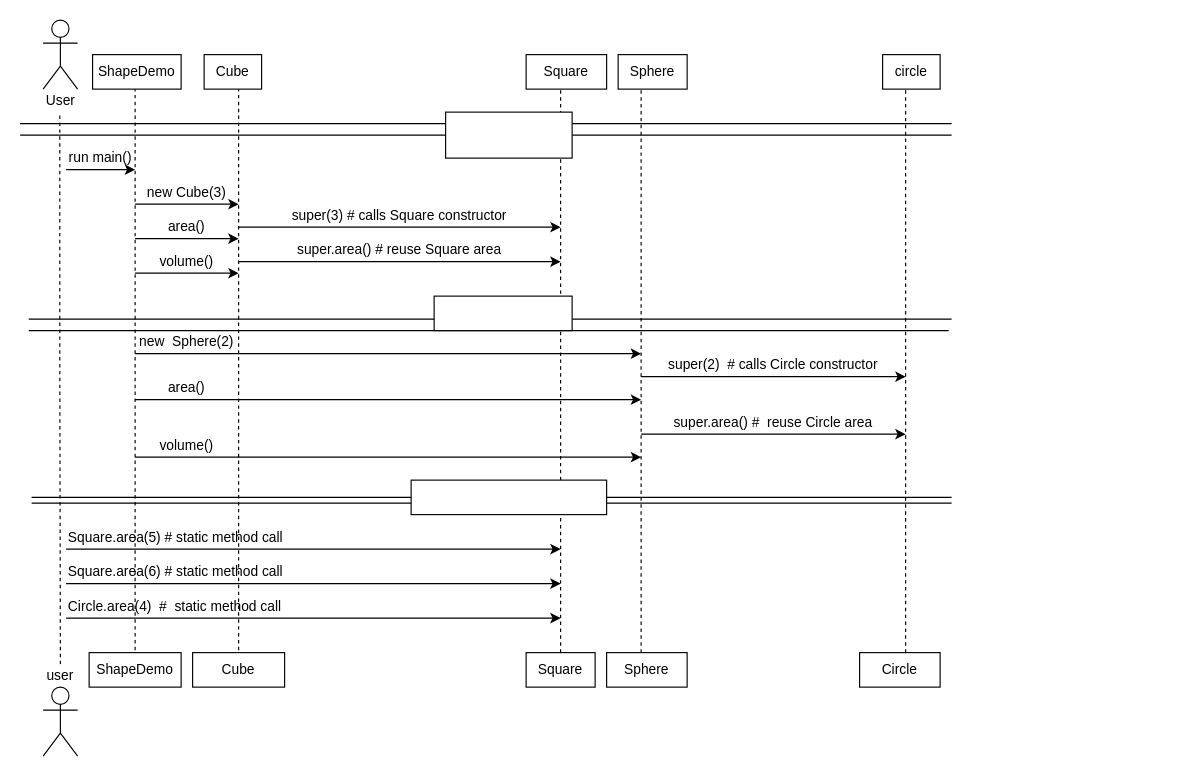
Some shapes in this 1194 by 776 pixel diagram are drawn without their labels. The shapes that lost their labels are listed below. From the top down, each one's centre as x and y in pixels, then its label:
point 508,134: Cube Interaction
point 502,313: Sphere interaction
point 508,497: Static Overloaded Methods
